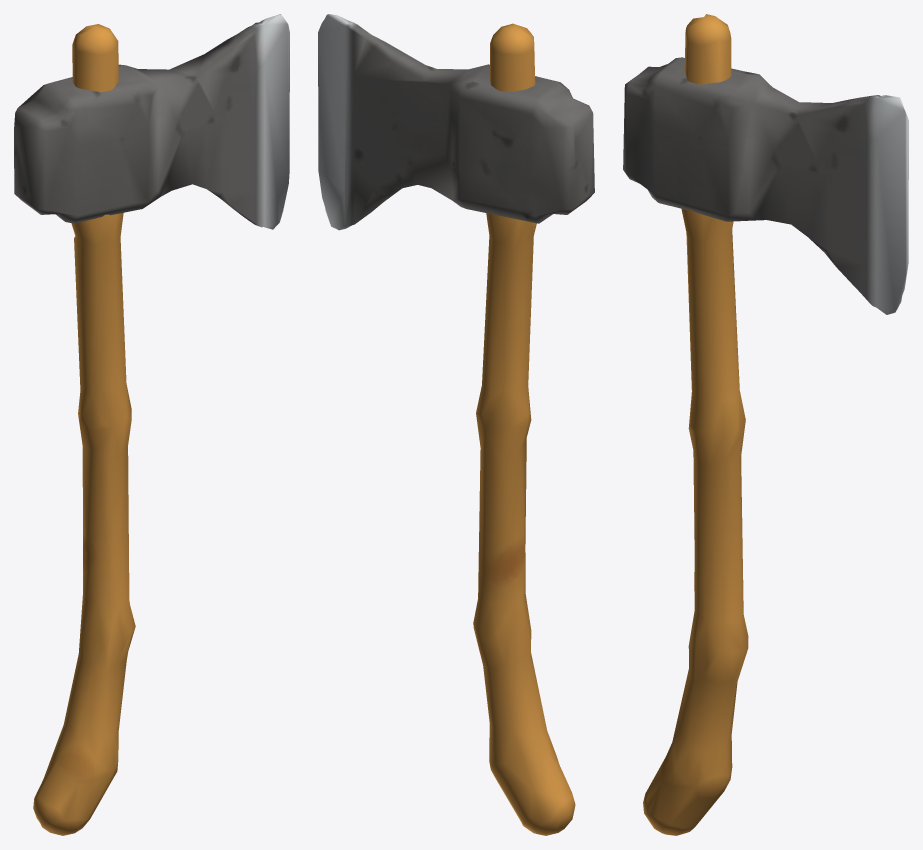
File: axe.glb
3 views of the same model, side by side, from view 1: azimuth 30°, elevation 25°; view 2: azimuth 150°, elevation 25°; view 3: azimuth 330°, elevation 25° (orthographic). The views are drawn at different scales.
Visible parts, largest first — view 1: haft; view 2: haft; view 3: haft.
Part boxes in pixels (bbox=[...]): haft: bbox=[14, 14, 289, 835]; haft: bbox=[318, 14, 594, 835]; haft: bbox=[623, 14, 908, 835].
Bounding box in the file's own units: 0.2869 × 0.8212 × 0.0632.
1 material, 1 textured.
